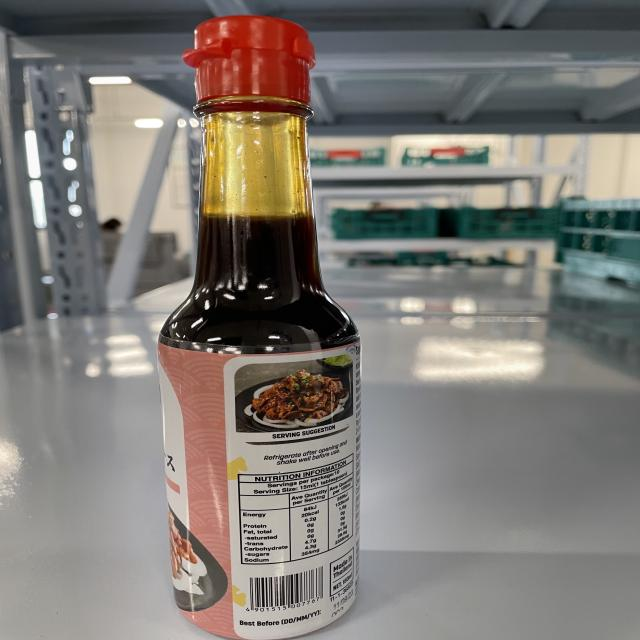object_name: (191, 27, 352, 625)
